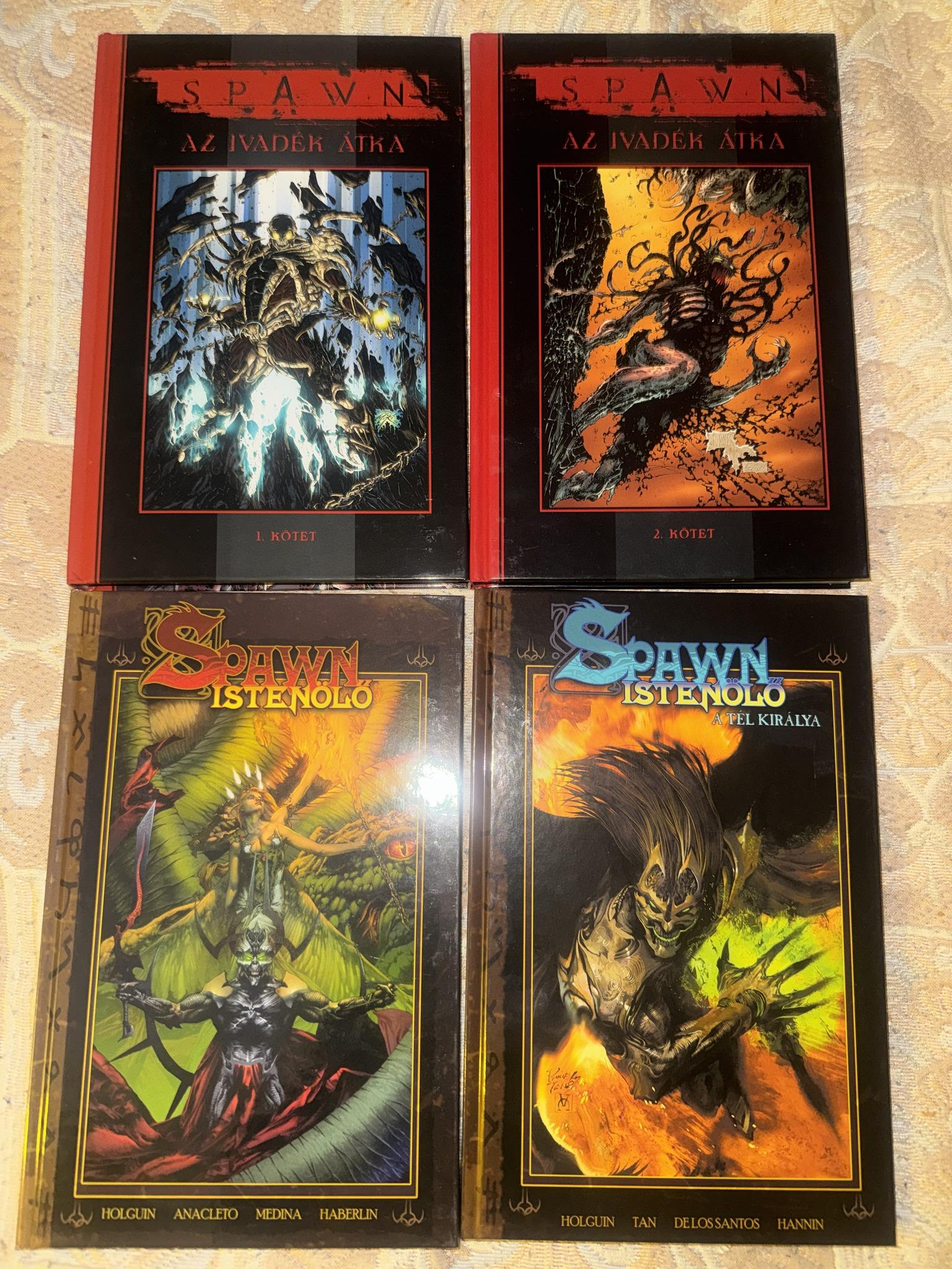comic: (18, 585, 468, 1253), (462, 589, 902, 1245), (66, 33, 467, 585), (471, 34, 866, 584)
